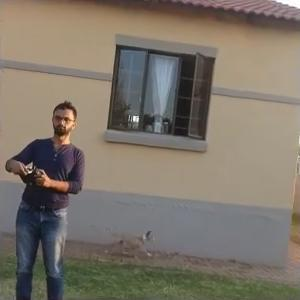follow: (2, 97, 95, 299)
null: (101, 220, 157, 261)
